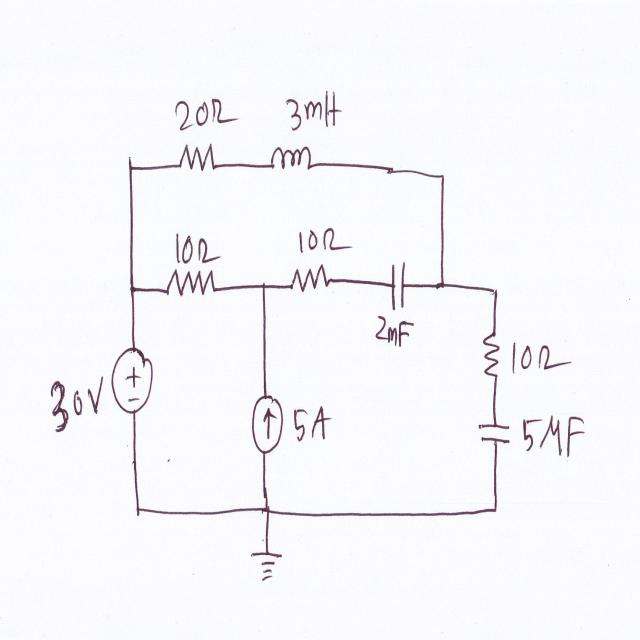capacitor: (472, 409, 519, 453), (384, 251, 410, 320)
current_source: (250, 384, 288, 463)
ground: (247, 540, 289, 598)
inductor: (266, 135, 319, 186)
resistor: (172, 132, 224, 187), (160, 260, 222, 306), (286, 259, 333, 302), (477, 322, 505, 389)
voltage_source: (107, 341, 155, 418)
